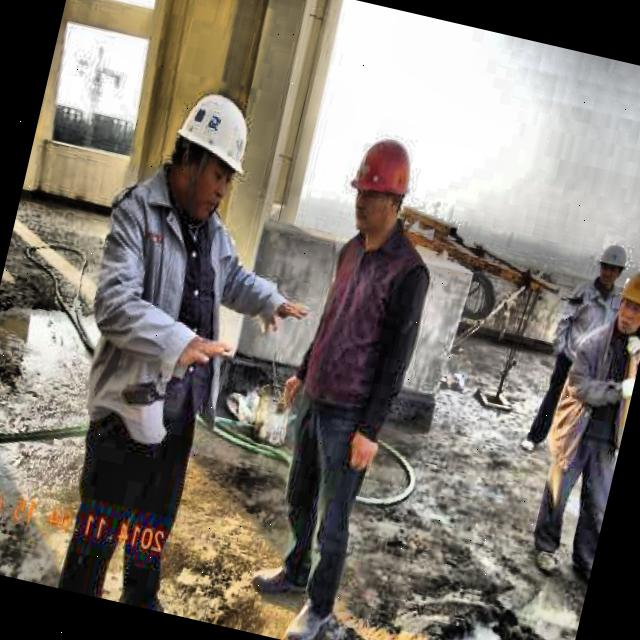helmet: (154, 82, 260, 226), (339, 131, 420, 244), (610, 262, 640, 338), (592, 240, 631, 292)
